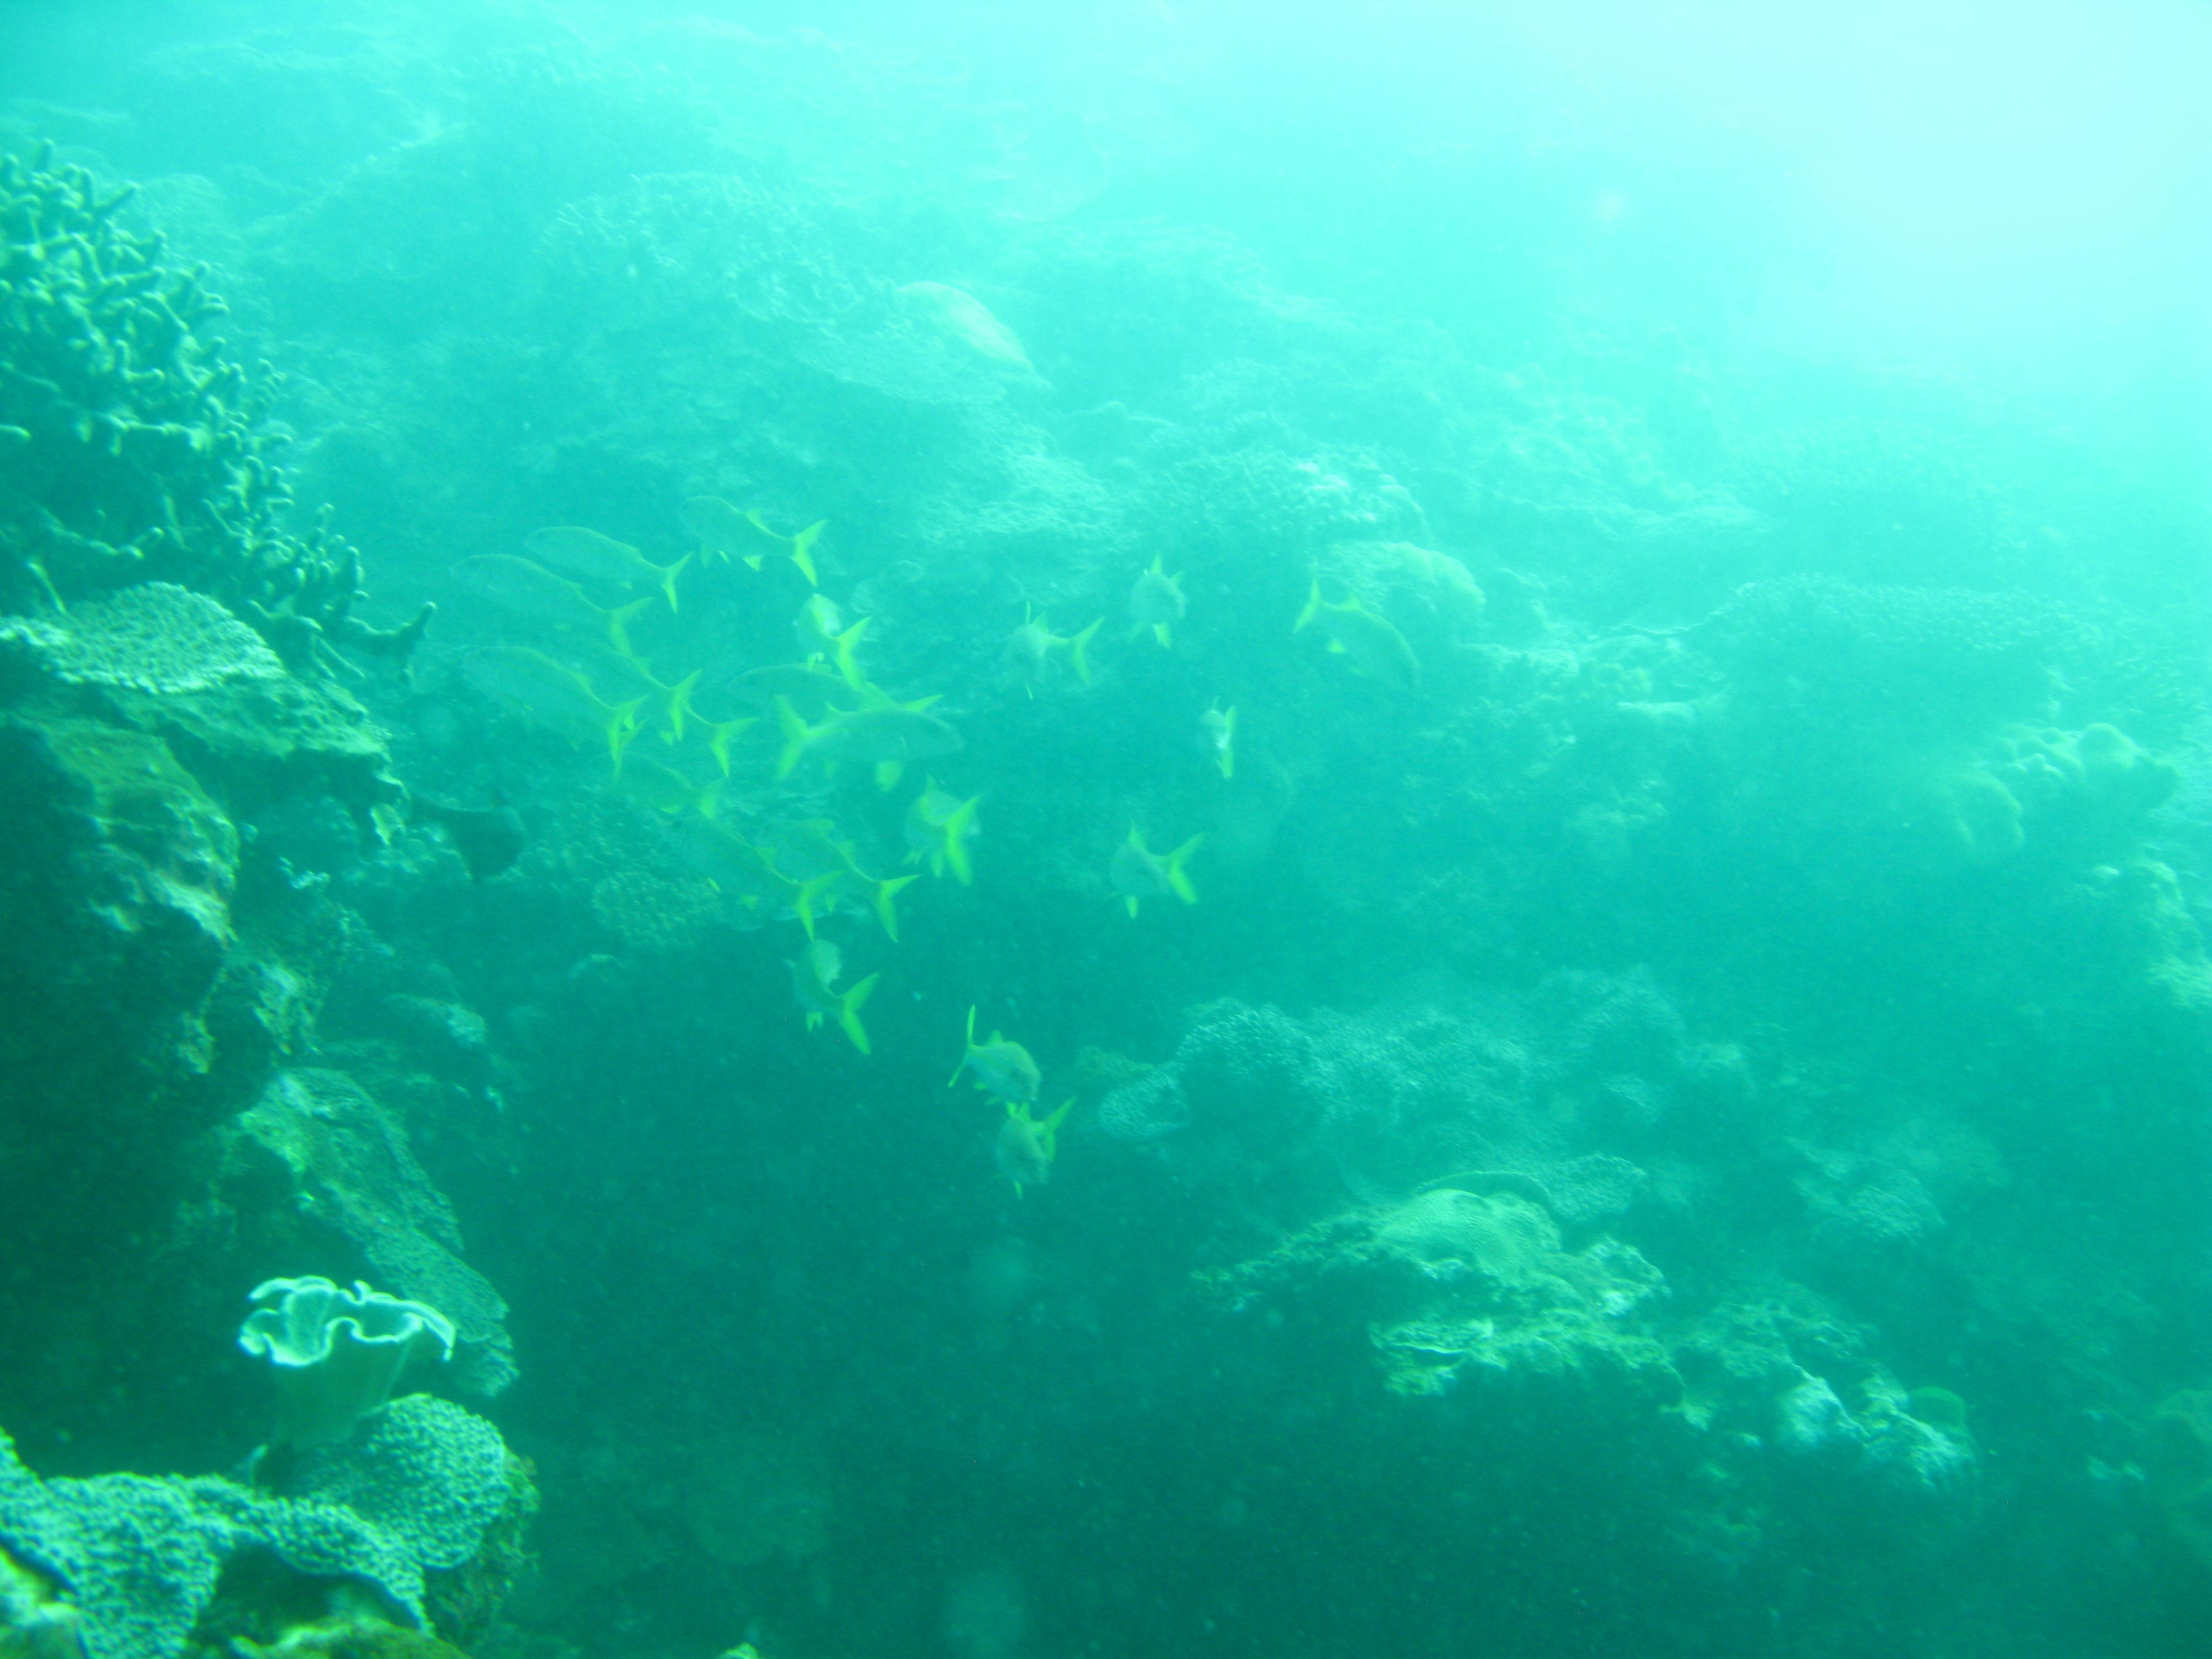Fish: (439, 537, 658, 671), (1284, 563, 1444, 714), (768, 681, 967, 796), (671, 481, 852, 591), (779, 932, 892, 1068), (1083, 821, 1214, 929), (1120, 552, 1204, 652)
